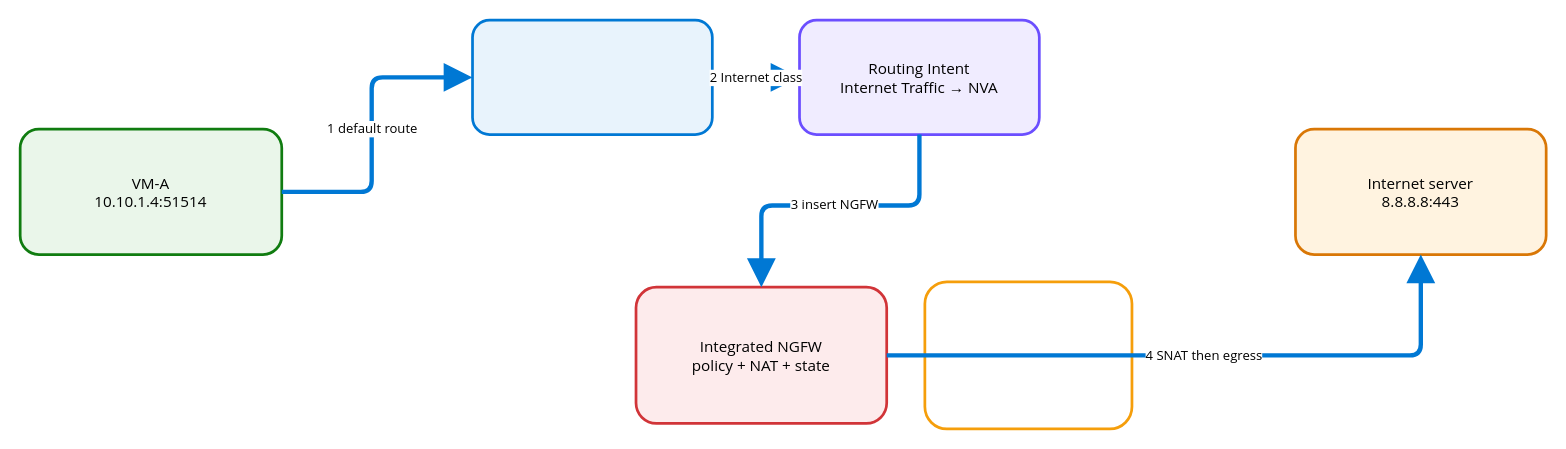
This 1566x449 diagram has some shape labels left out. The box of each missing label's shape, as (x1, y1, x2, y2) in pixels:
NAT transformation 10.10.1.4:51514 ⇄ public-SNAT:port: (923, 280, 1133, 430)
Secured default route 0.0.0.0/0 → NVA: (471, 18, 713, 135)
